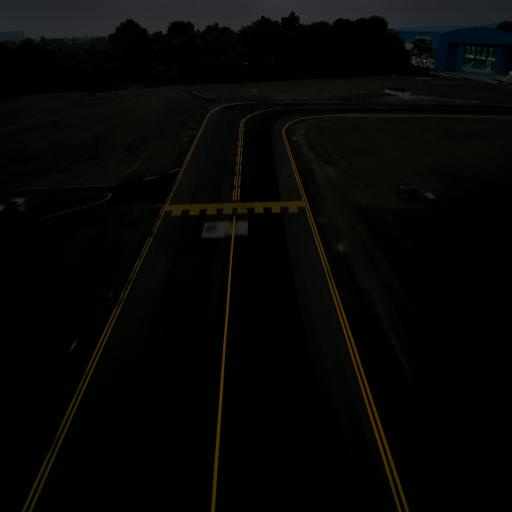on: (338, 239, 343, 250), (293, 133, 296, 139), (184, 136, 188, 140)
